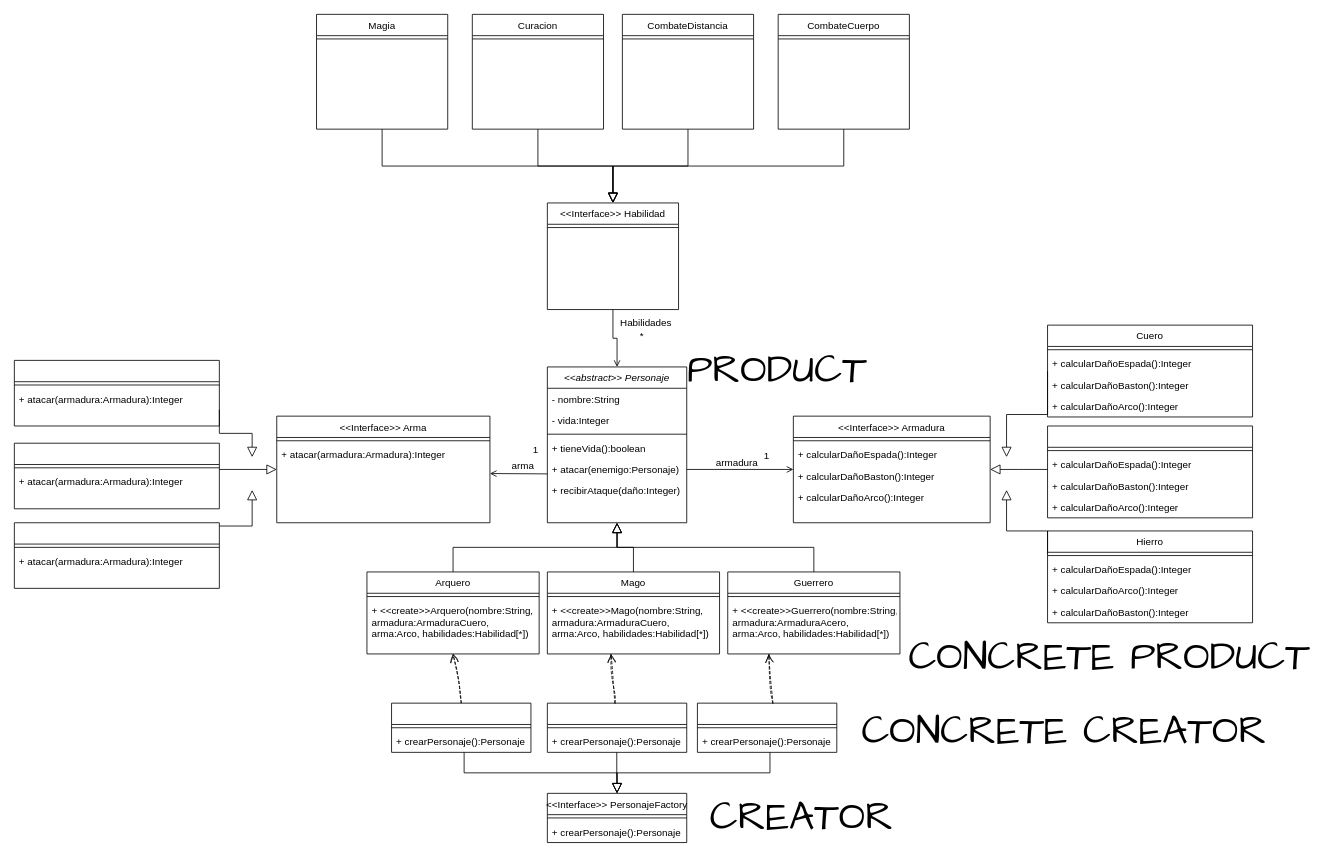
Some shapes in this 1333 by 861 pixel diagram are drawn without their labels. The box of each missing label's shape, as (x1, y1, x2, y2) in pixels:
Acero: (1047, 425, 1253, 518)
Arco: (14, 360, 219, 426)
ArqueroCreador: (391, 702, 531, 752)
Baston: (14, 442, 219, 509)
Espada: (14, 522, 219, 588)
GuerreroCreador: (697, 702, 837, 752)
MagoCreador: (547, 702, 687, 752)
